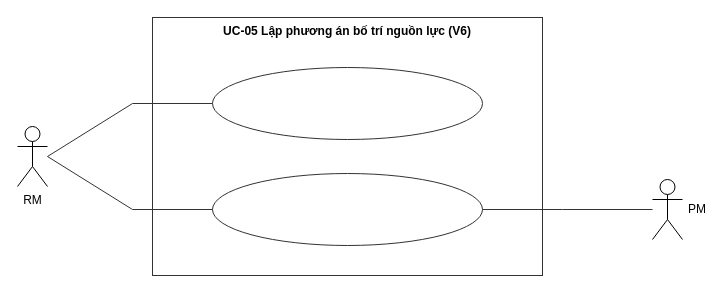
Image size: 724x293. Some labels were removed from this diagram. Each missing label, with the centre of its shape:
UC-05.1 Xây dựng phương án bố trí: pixel 347 103
UC-05.2 Rà soát phương án bố trí: pixel 347 209
